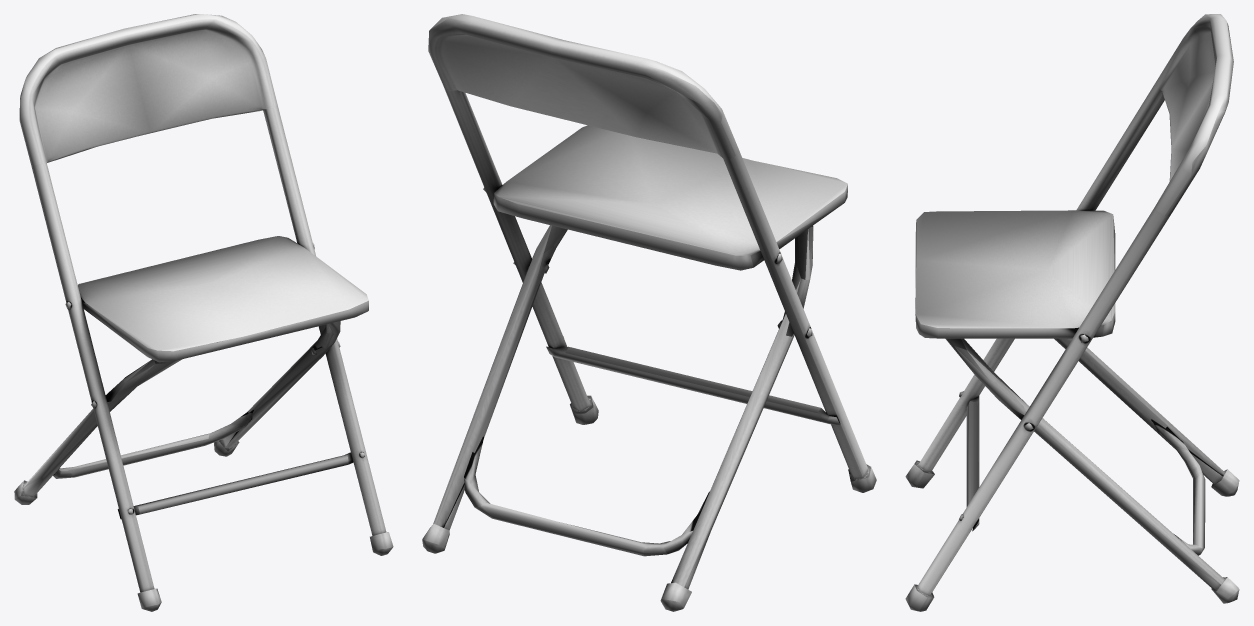
File: chair.glb
The picture shows the model from 3 angles, left to right: view 1: azimuth 30°, elevation 25°; view 2: azimuth 150°, elevation 25°; view 3: azimuth 270°, elevation 25°; orthographic projection. The views are drawn at different scales.
Visible parts, largest first — view 1: 13494_Folding_Chairs_v1_L3; view 2: 13494_Folding_Chairs_v1_L3; view 3: 13494_Folding_Chairs_v1_L3.
Boxes of the visible parts, x1,y1,x2,y2 form: 13494_Folding_Chairs_v1_L3: [14, 14, 393, 611]; 13494_Folding_Chairs_v1_L3: [422, 14, 876, 611]; 13494_Folding_Chairs_v1_L3: [905, 14, 1239, 611].
Size of the model in its own units: 14.72 by 25.42 by 15.57.
Materials: 1 (1 with a texture image).
